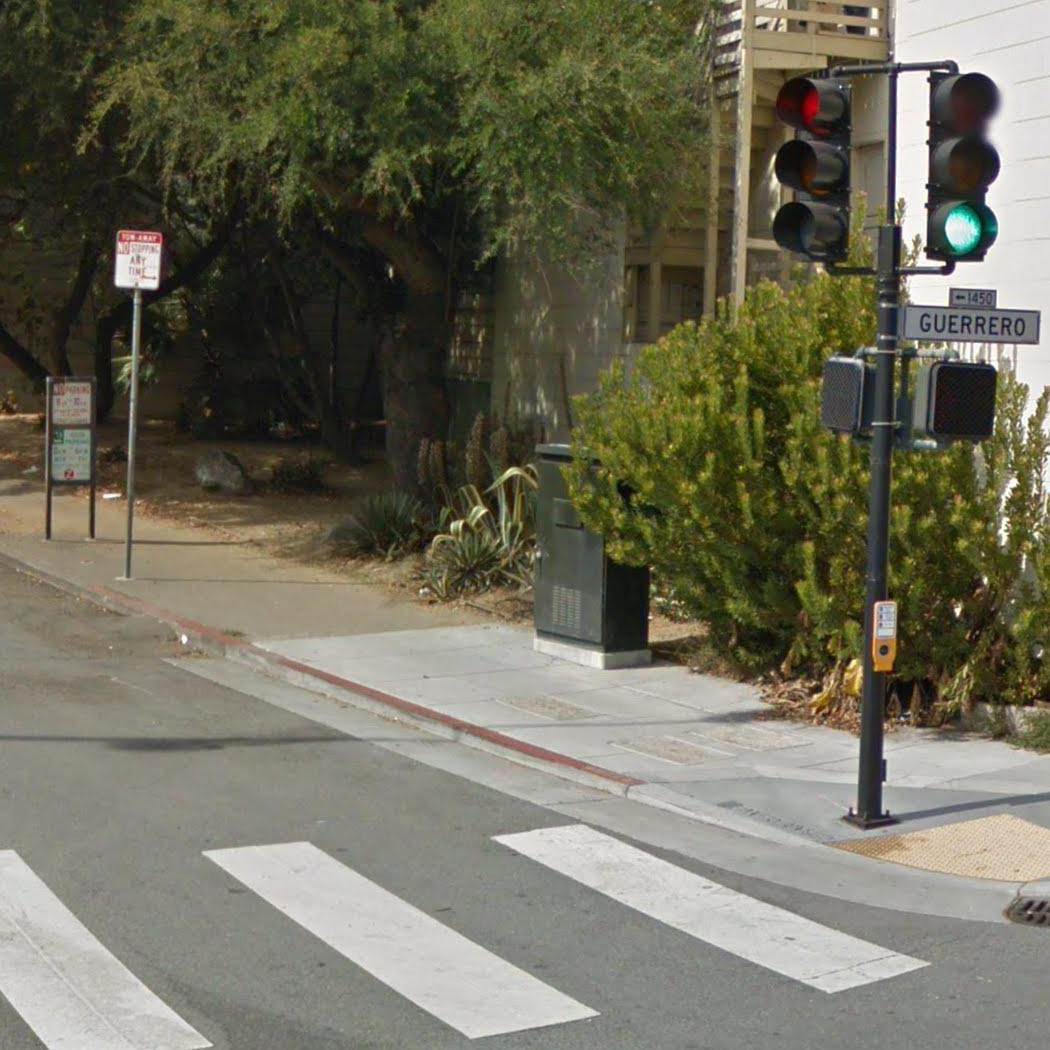2 Hour Parking: (47, 426, 94, 484)
No Parking: (49, 379, 94, 428)
No Parking Anytime: (112, 227, 164, 294)
